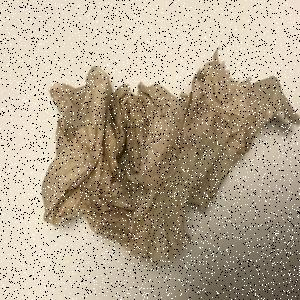Trash: (42, 46, 300, 263)
